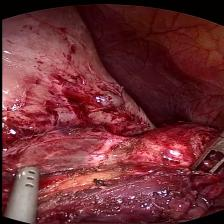Grasper: (192, 127, 224, 179)
Irrigator: (8, 166, 44, 200)
